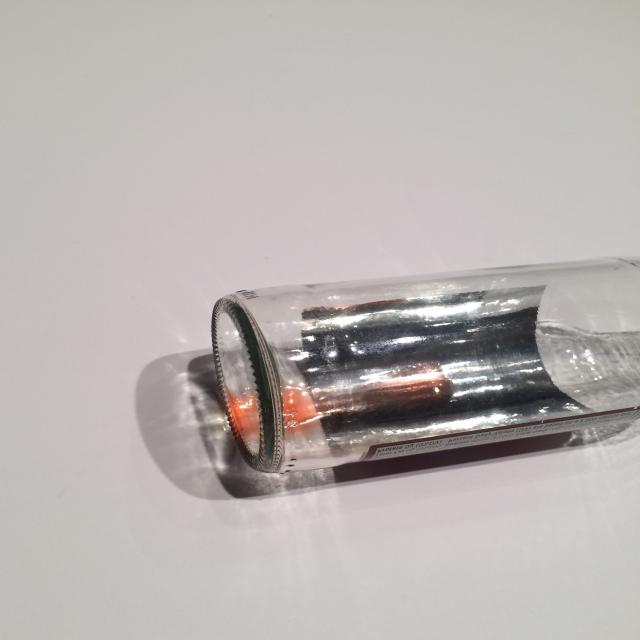glass: (209, 254, 640, 476)
